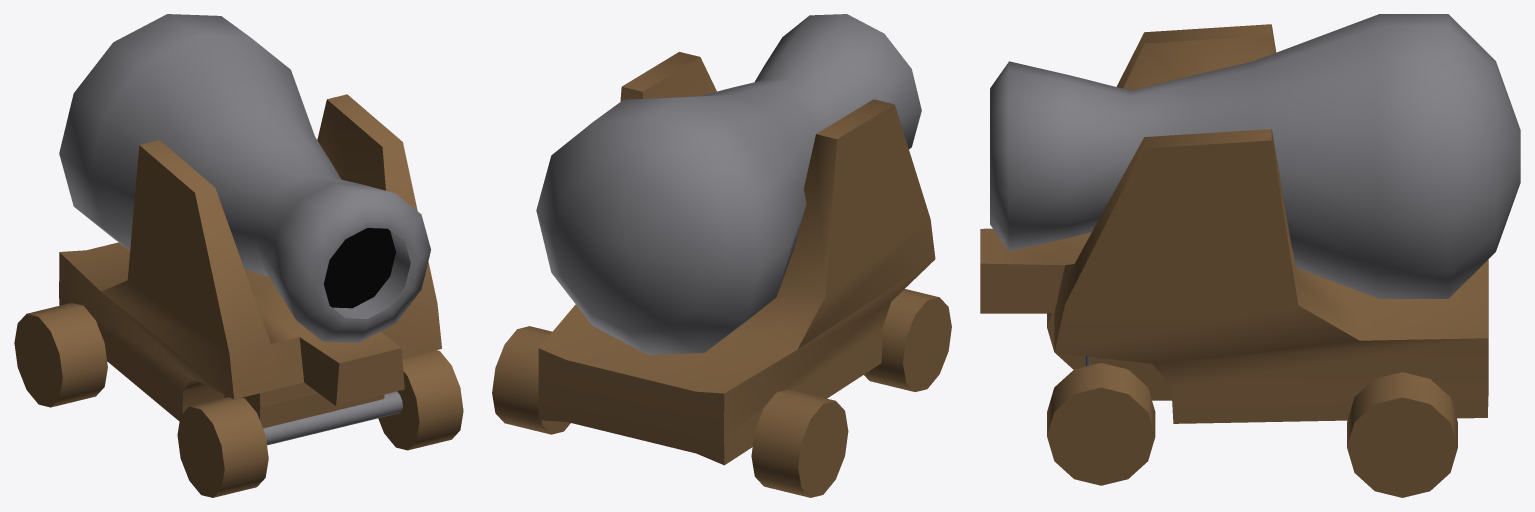
Rendered from canhao.glb.
3 renders of one model, left to right at view 1: azimuth 30°, elevation 25°; view 2: azimuth 150°, elevation 25°; view 3: azimuth 270°, elevation 25°, orthographic. The views are drawn at different scales.
Parts seen in each view (by area): view 1: Canhao, Canhao.002, Canhao.001, Canhao.003; view 2: Canhao, Canhao.002, Canhao.001, Canhao.004; view 3: Canhao, Canhao.004, Canhao.003.
Boxes of the visible parts, x1,y1,x2,y2 form: Canhao: (59, 14, 441, 445); Canhao.002: (14, 303, 107, 407); Canhao.001: (177, 397, 268, 497); Canhao.003: (378, 350, 463, 450); Canhao: (536, 14, 935, 465); Canhao.002: (751, 389, 848, 497); Canhao.001: (864, 289, 951, 391); Canhao.004: (492, 326, 570, 434); Canhao: (980, 14, 1520, 423); Canhao.004: (1347, 372, 1457, 497); Canhao.003: (1047, 363, 1155, 485).
Bounding box in the file's own units: 0.9839 × 1.09 × 1.36.
